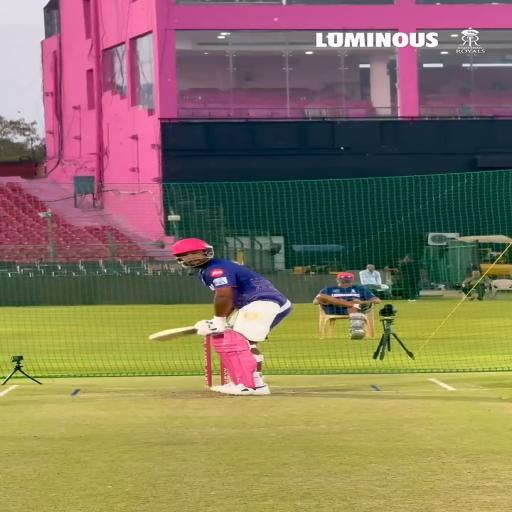Cricket bat: (150, 326, 196, 341)
